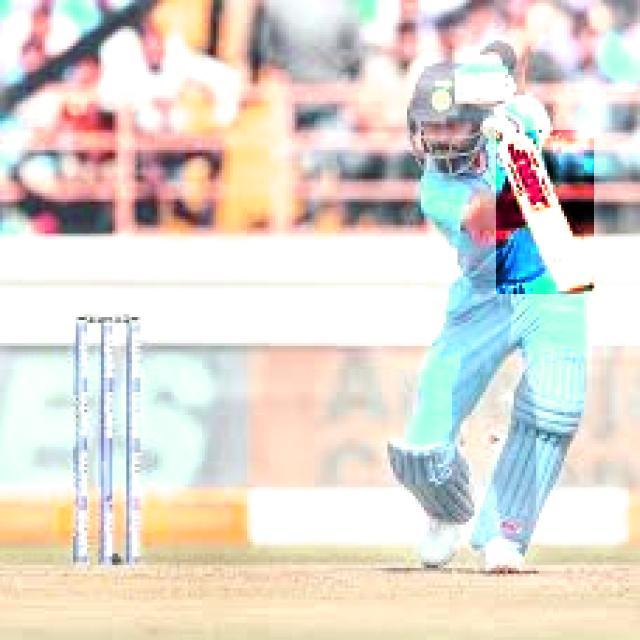bat: (494, 133, 597, 295)
toe: (556, 283, 594, 292)
